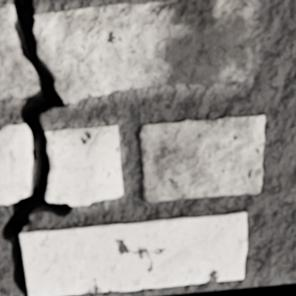brick: (20, 212, 245, 295), (139, 116, 263, 202)
broken_brick: (34, 0, 252, 104), (46, 126, 122, 206), (0, 5, 39, 99), (0, 125, 32, 204)
crack: (0, 0, 71, 295)
